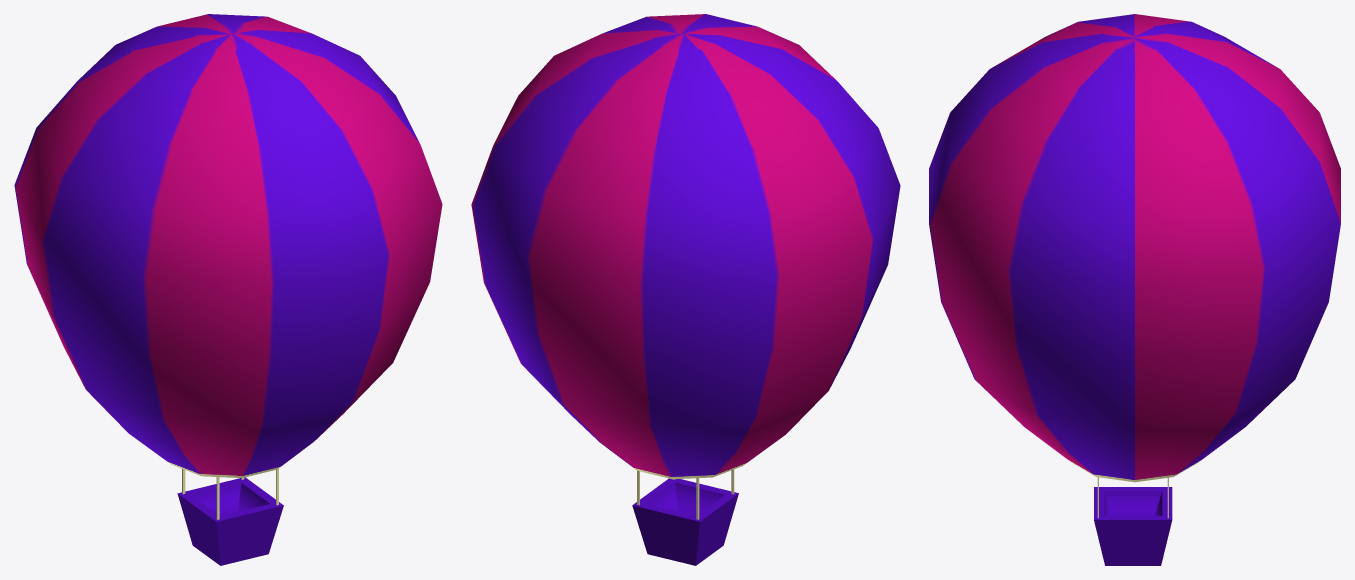
Rendered from GamekaLand_Air_Balloon_2.fbx.
The picture shows the model from 3 angles, left to right: view 1: azimuth 30°, elevation 25°; view 2: azimuth 150°, elevation 25°; view 3: azimuth 270°, elevation 25°; orthographic projection.
Visible parts, largest first — view 1: GamekaLand_Air_Balloon_2; view 2: GamekaLand_Air_Balloon_2; view 3: GamekaLand_Air_Balloon_2.
Part boxes in pixels (left/top/right/bottom): GamekaLand_Air_Balloon_2: left=14, top=14, right=442, bottom=565; GamekaLand_Air_Balloon_2: left=471, top=14, right=900, bottom=565; GamekaLand_Air_Balloon_2: left=929, top=14, right=1340, bottom=565.
Size of the model in its own units: 5.87 by 7.75 by 5.58.
